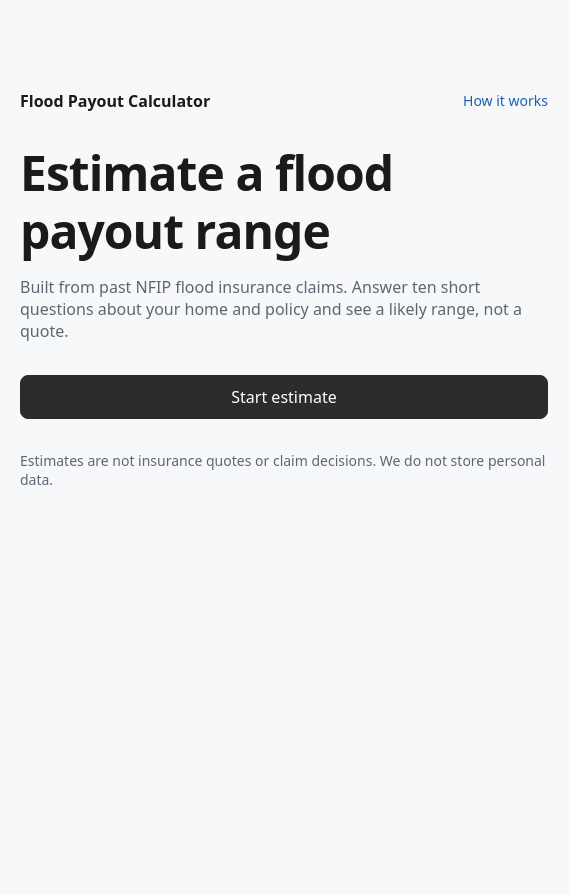
Test: app flow › home -> form -> result, sending the homeowner's answers without a state
Click the button "Start estimate" at (284, 397), box x1=20 y1=375 x2=548 y2=419
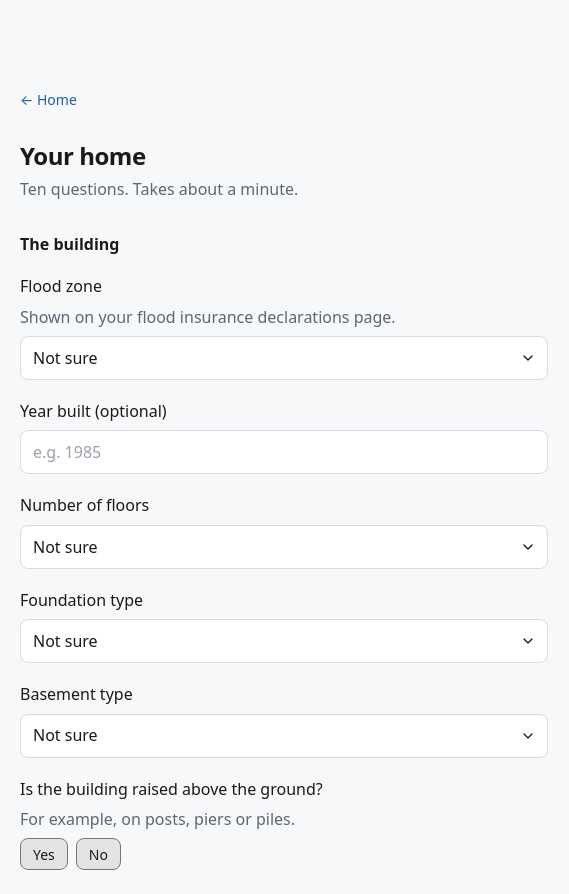
Click the radio button labelled "No" at (98, 854), box x1=76 y1=838 x2=121 y2=870
(page scrolled)
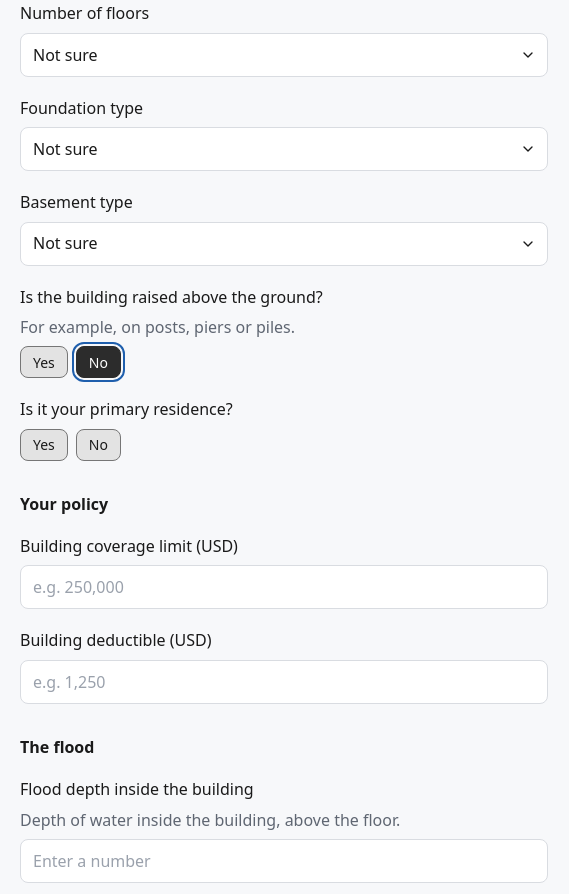
Click the radio button labelled "Yes" below "Is it your primary residence?" at (44, 445), box x1=20 y1=429 x2=68 y2=461
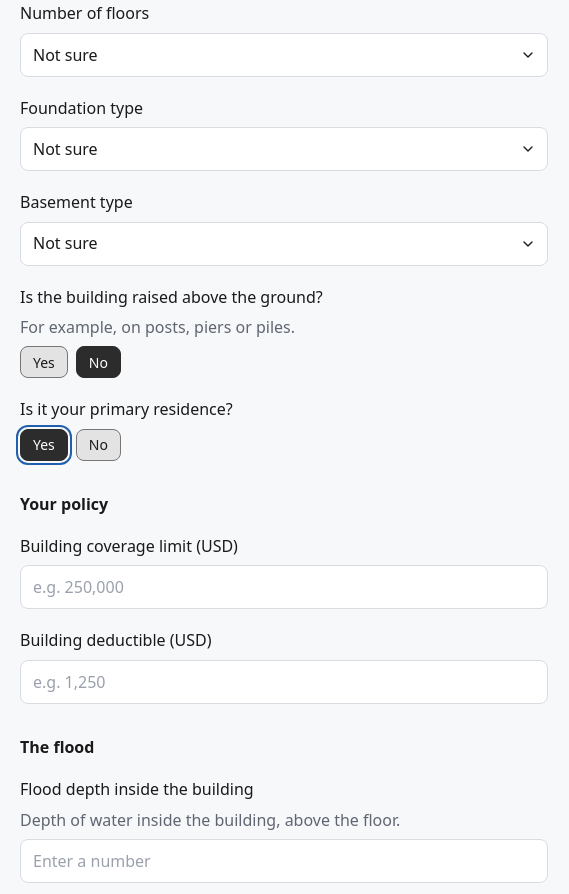
Type "250,000" into the field labelled "Building coverage limit (USD)" at (284, 588), box x1=20 y1=566 x2=548 y2=610
Type "1250" into the field labelled "Building deductible (USD)" at (284, 682), box x1=20 y1=660 x2=548 y2=704
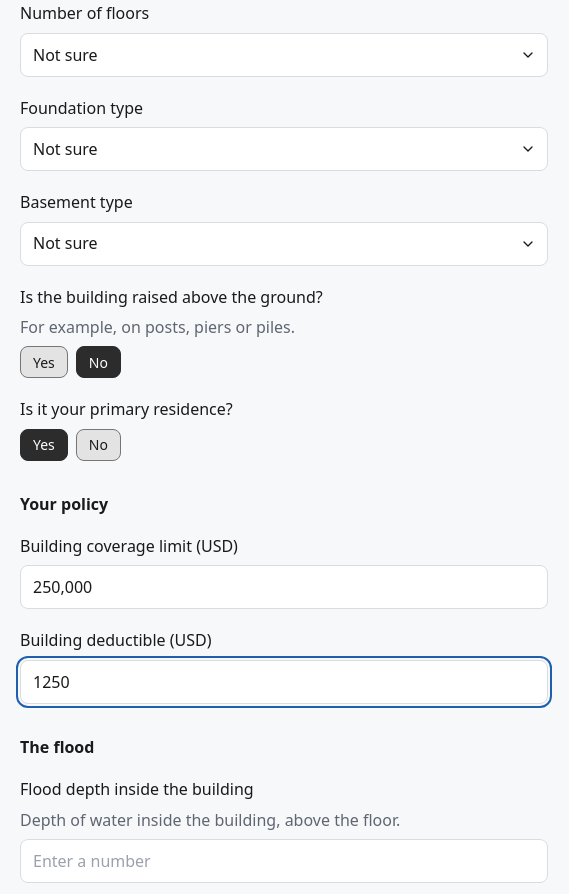
Type "12" into the field labelled "Flood depth inside the building" at (284, 861), box x1=20 y1=839 x2=548 y2=883
(page scrolled)
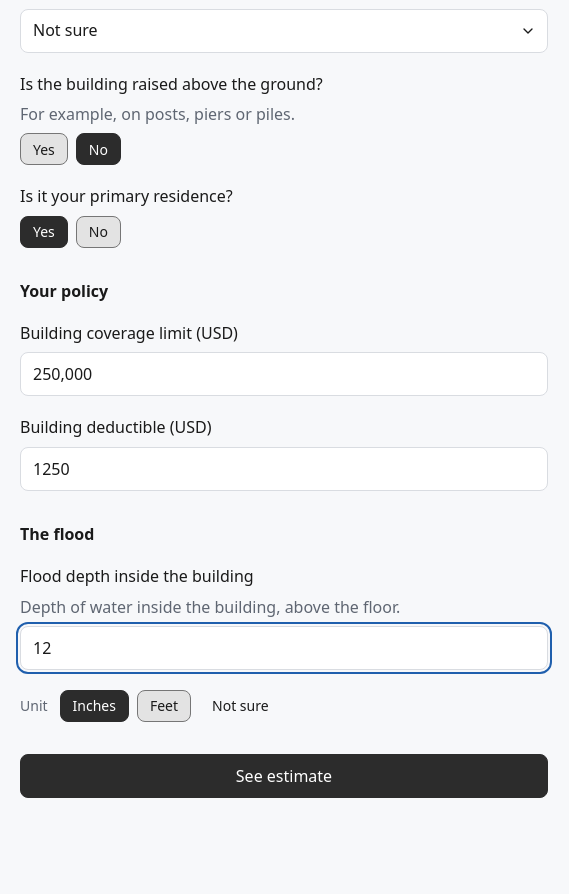
Click the button "See estimate" at (284, 776), box x1=20 y1=754 x2=548 y2=798
(page scrolled)
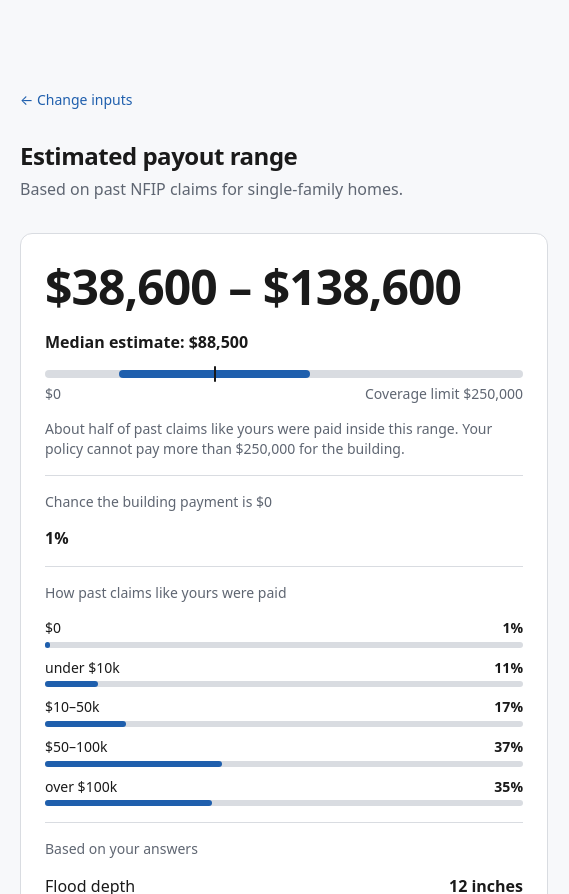
Expected: the text "$38,600 – $138,600" is shown, x1=45 y1=258 x2=523 y2=315
Expected: the text "Median estimate: $88,500" is shown, x1=45 y1=331 x2=248 y2=353
